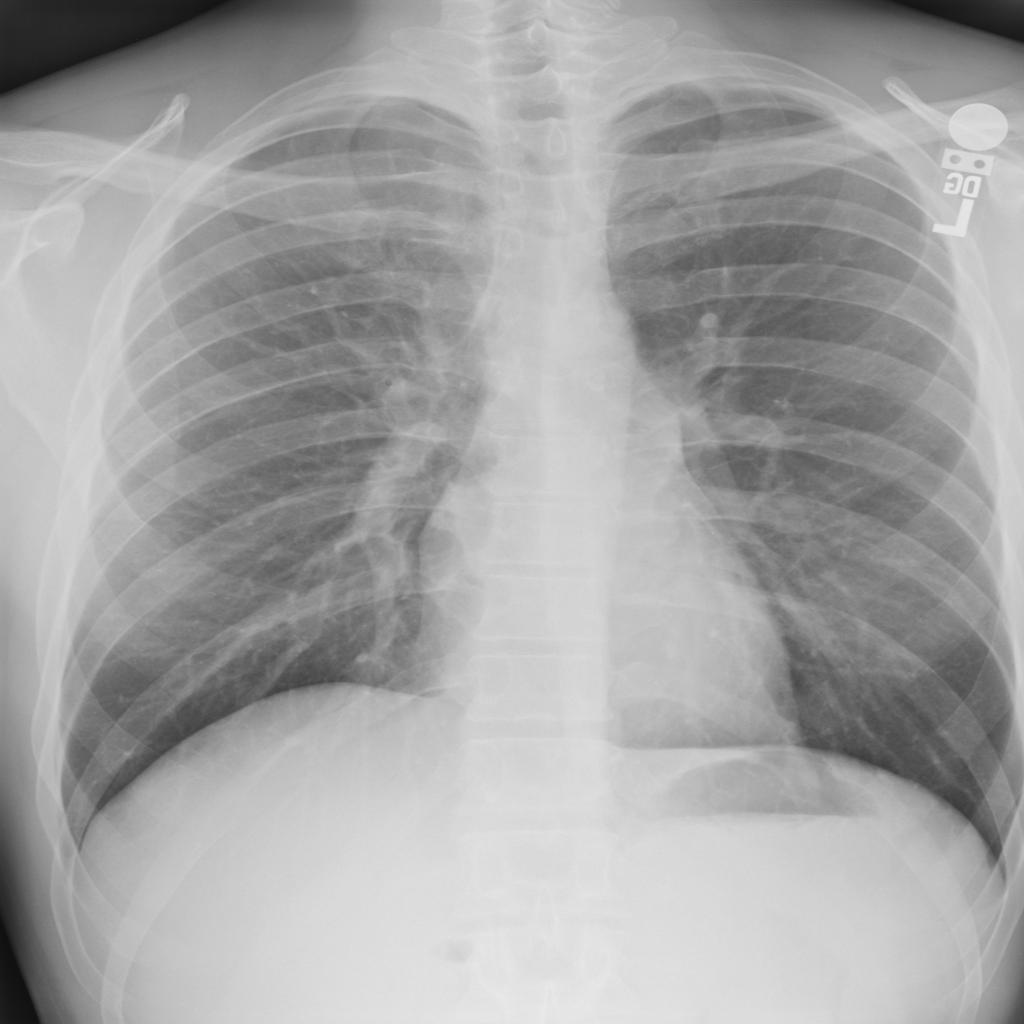nodule: (771, 529, 971, 693)
